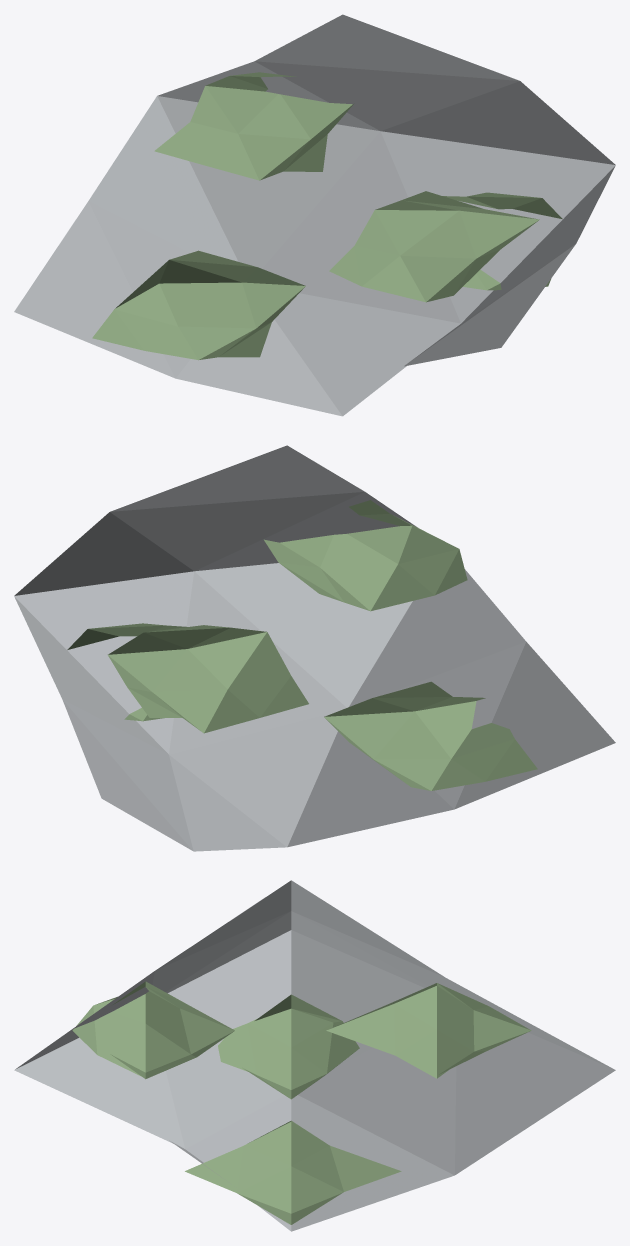
Rendered from moss_rock_v29.glb.
3 views of the same model, one above another, from view 1: azimuth 30°, elevation 25°; view 2: azimuth 150°, elevation 25°; view 3: azimuth 270°, elevation 25° (orthographic). The views are drawn at different scales.
Parts seen in each view (by area): view 1: lod0; view 2: lod0; view 3: lod0.
Boxes of the visible parts, x1,y1,x2,y2 form: lod0: (14, 14, 615, 416); lod0: (14, 445, 615, 851); lod0: (14, 880, 615, 1231).
Size of what is drawn, in the model's own units: 1.56 by 0.9987 by 1.55.
